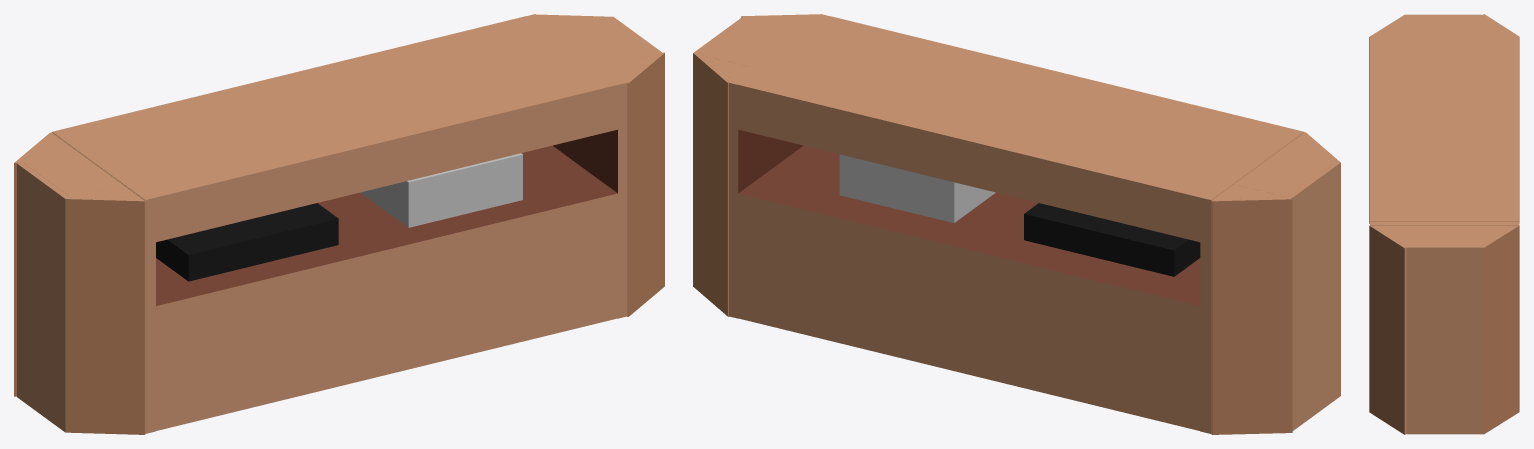
Rendered from brown_furniture.obj.
The picture shows the model from 3 angles, left to right: view 1: azimuth 30°, elevation 25°; view 2: azimuth 150°, elevation 25°; view 3: azimuth 270°, elevation 25°; orthographic projection. The views are drawn at different scales.
Visible parts, largest first — view 1: pasted__pCube4; view 2: pasted__pCube4; view 3: pasted__pCube4.
Part boxes in pixels (bbox=[...]): pasted__pCube4: bbox=[14, 14, 664, 434]; pasted__pCube4: bbox=[693, 14, 1340, 434]; pasted__pCube4: bbox=[1369, 14, 1519, 434].
Bounding box in the file's own units: 2.25 × 0.839 × 0.6113.
6 materials, 6 textured.
